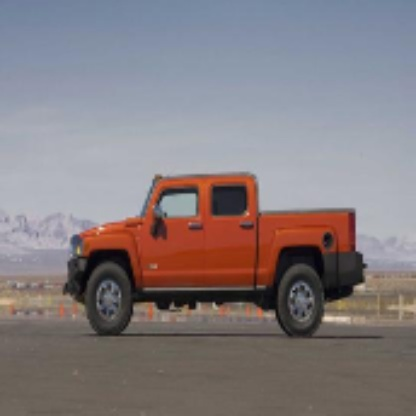Vehicle: (65, 174, 367, 340)
